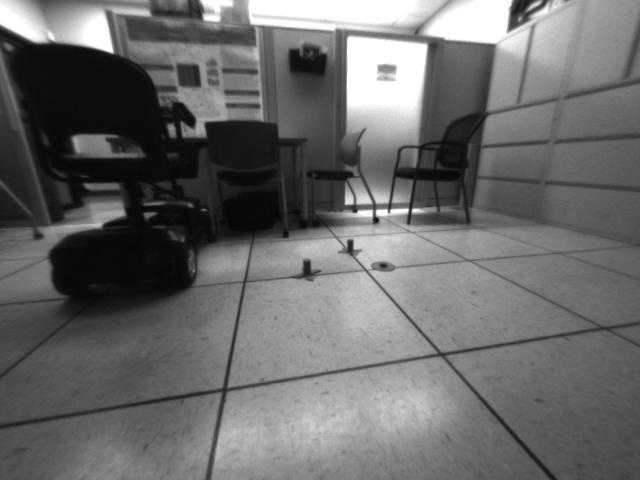X: (296, 257, 320, 280), (341, 240, 362, 257)
